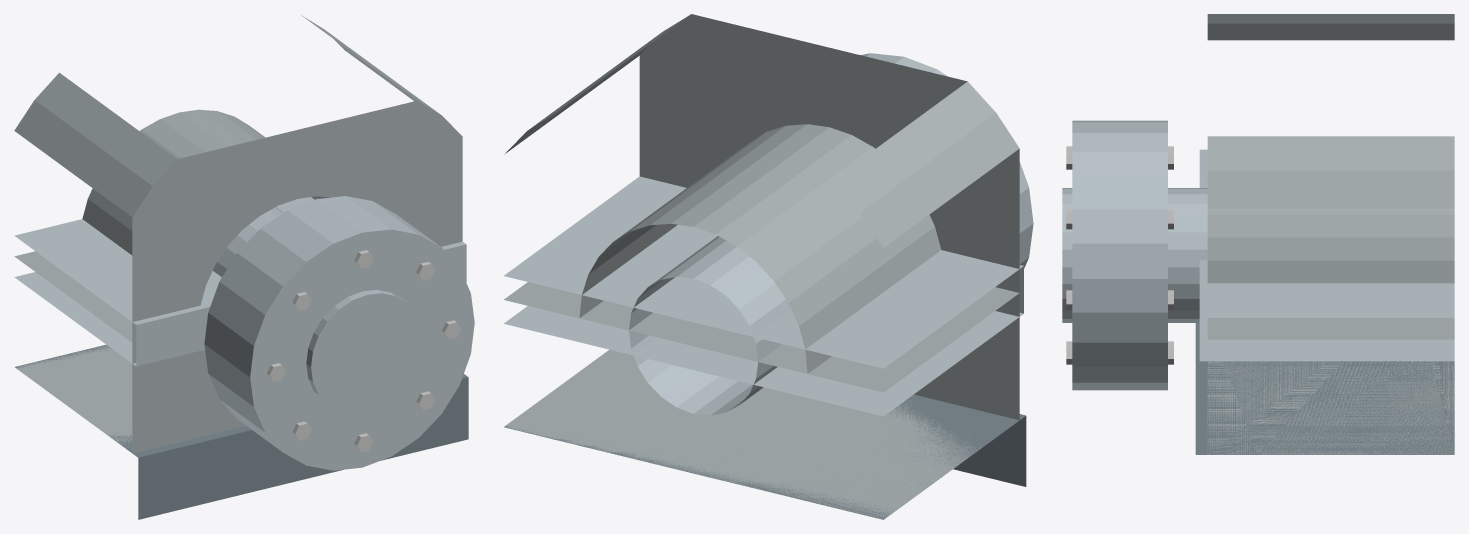
The model's file is cell_132.obj.
3 views of the same model, side by side, from view 1: azimuth 30°, elevation 25°; view 2: azimuth 150°, elevation 25°; view 3: azimuth 270°, elevation 25° (orthographic). The views are drawn at different scales.
Size of the model in its own units: 1 by 1 by 0.985.
